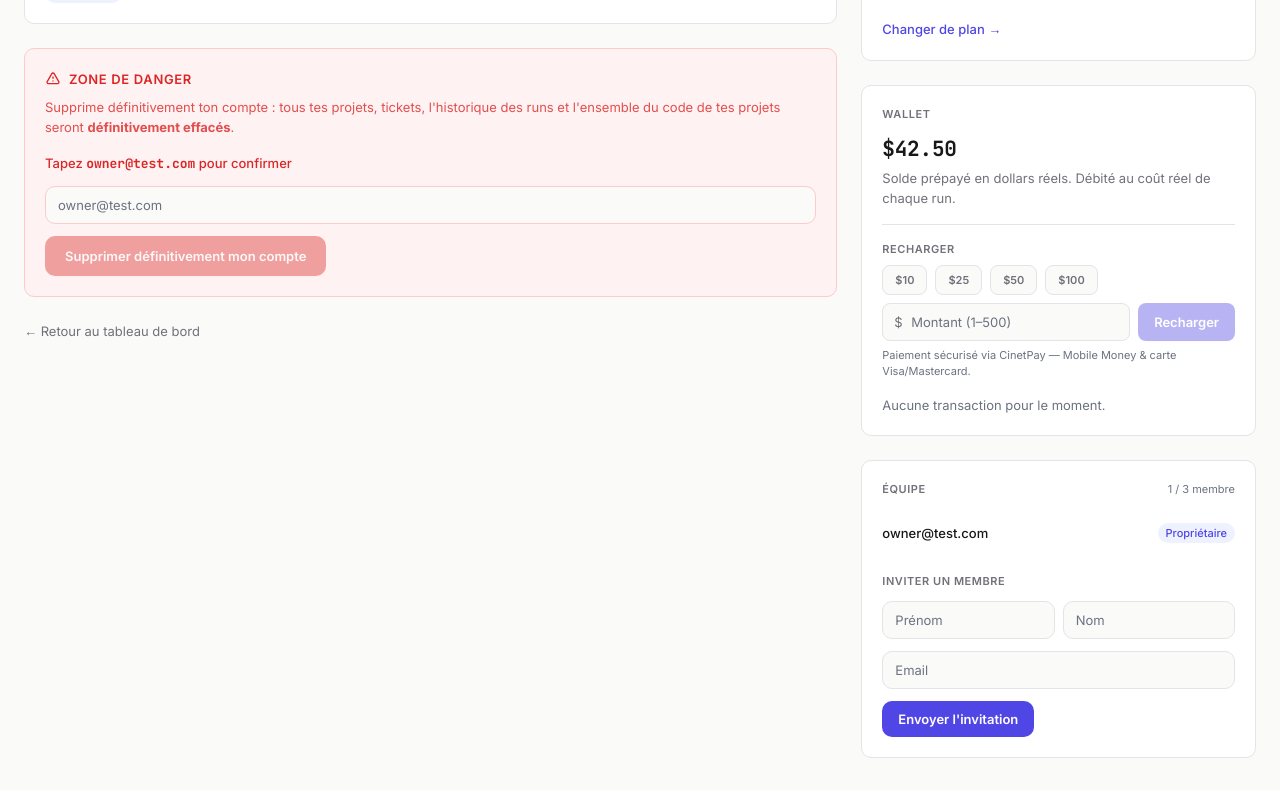
Test: AccountSettingsPage — section Équipe › affiche une erreur si l'invitation échoue
This screenshot has width=1280, height=790.
(page scrolled)
Check: the form with test id "invite-form" is shown, box top-left (882, 573), bottom-right (1235, 737)
Type "X" into the field with placeholder "Prénom" at (968, 620), box top-left (882, 601), bottom-right (1055, 639)
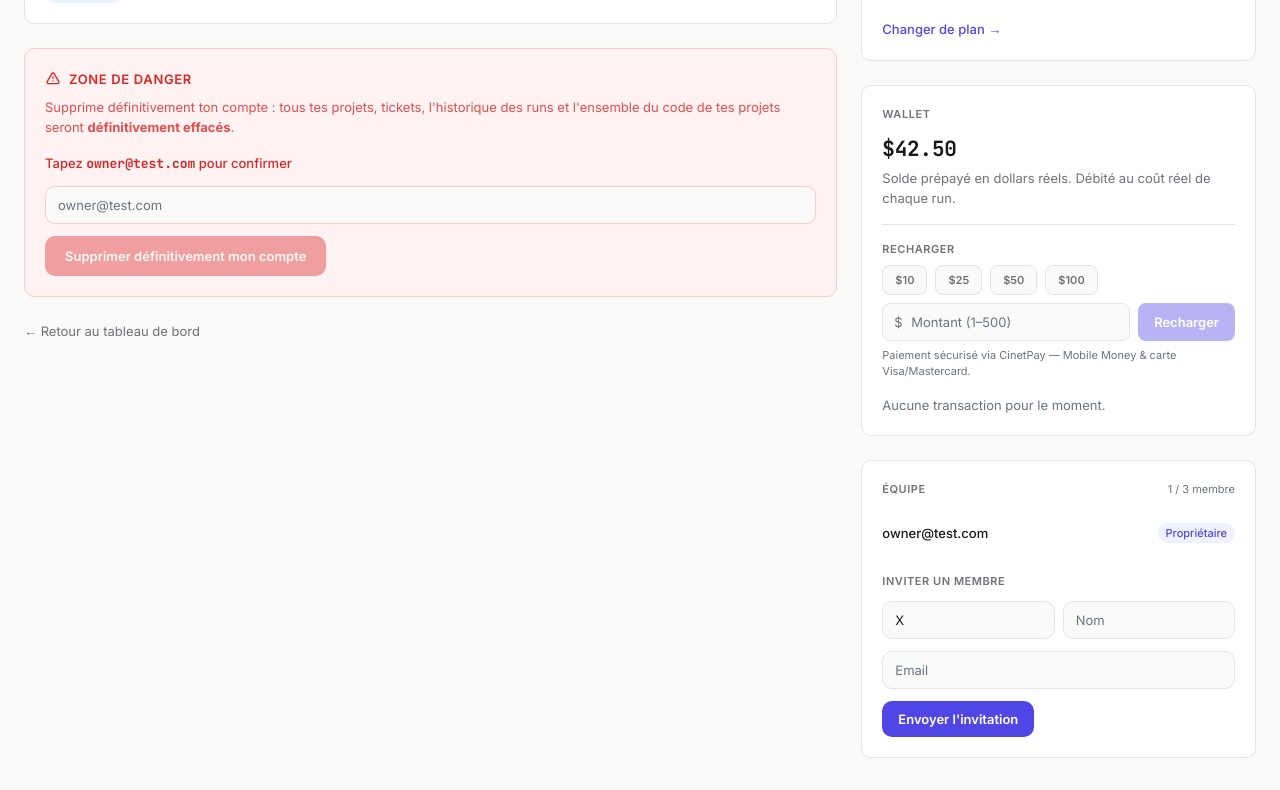
Type "Y" into the field with placeholder "Nom" at (1149, 620), box top-left (1063, 601), bottom-right (1235, 639)
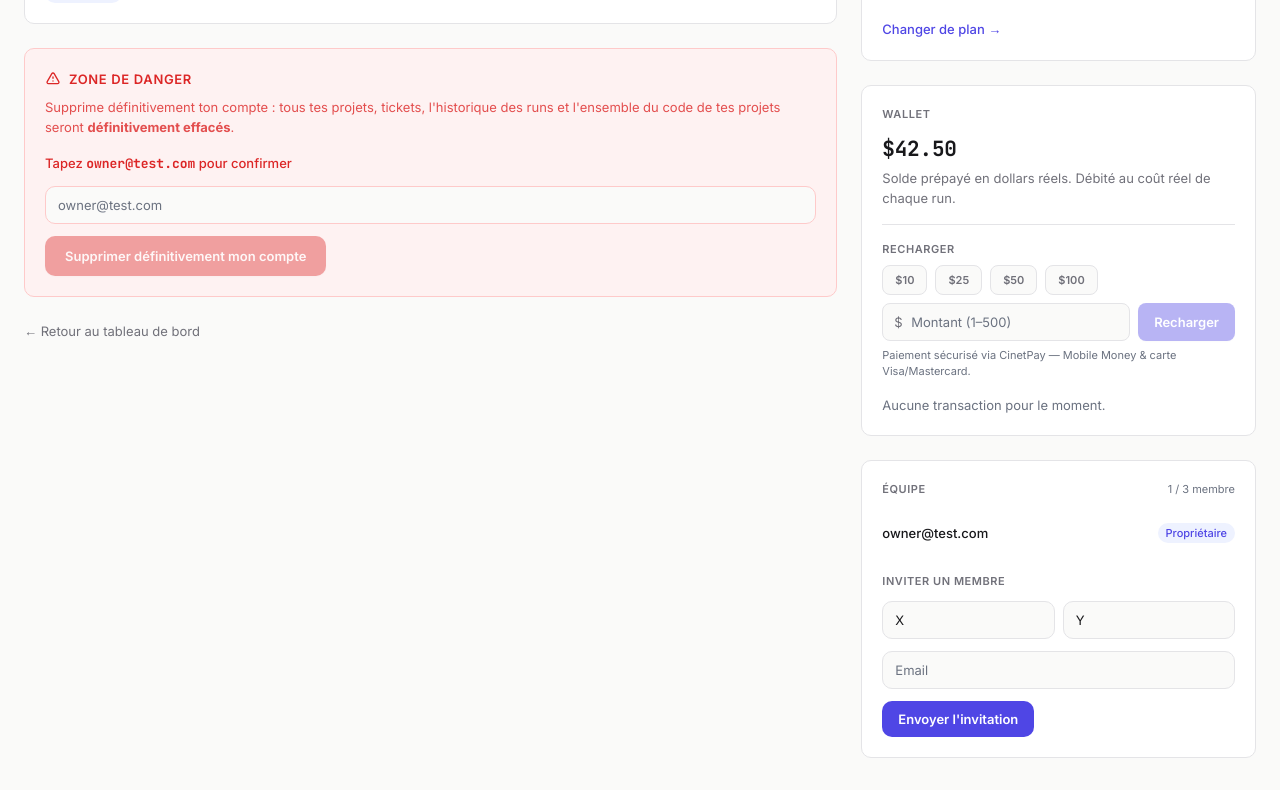
Type "existing@test.com" into the field with placeholder "Email" at (1059, 670), box top-left (882, 651), bottom-right (1235, 689)
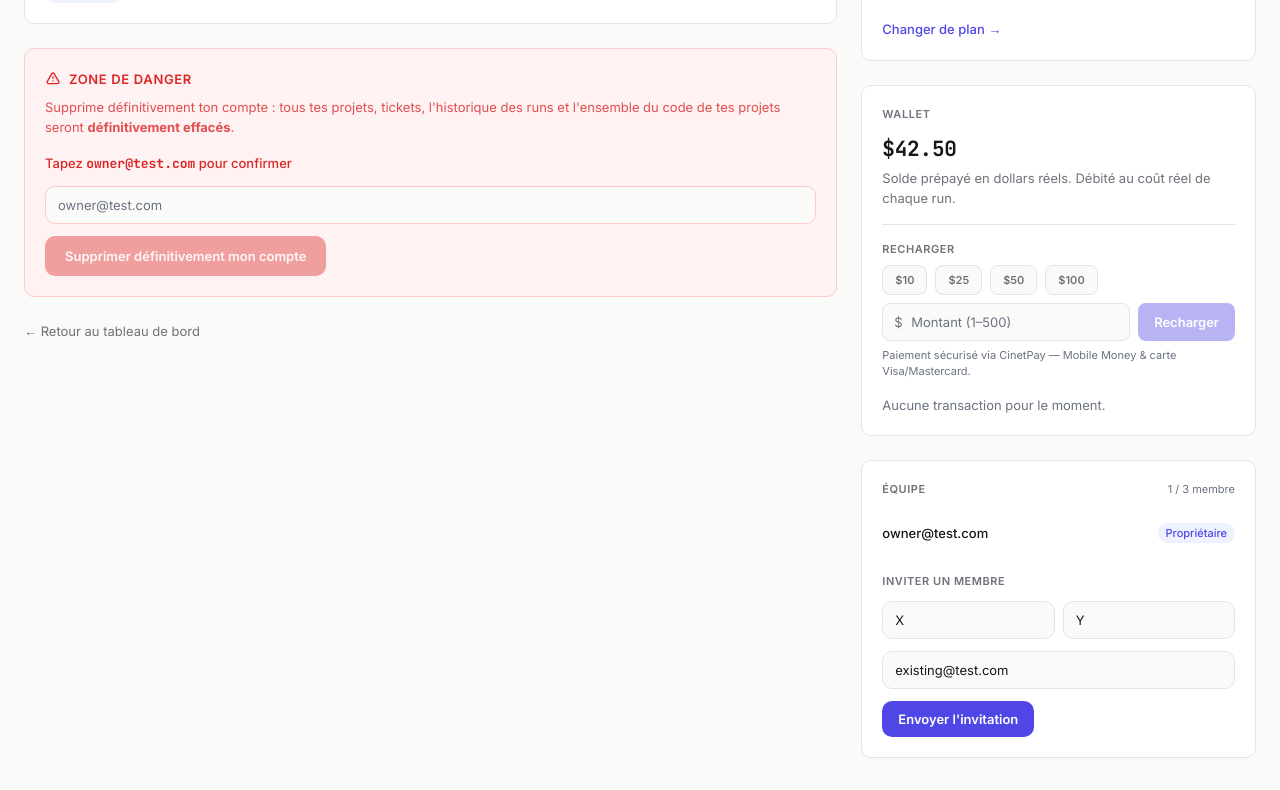
Click the button "Envoyer l'invitation" at (958, 719), box top-left (882, 701), bottom-right (1034, 737)
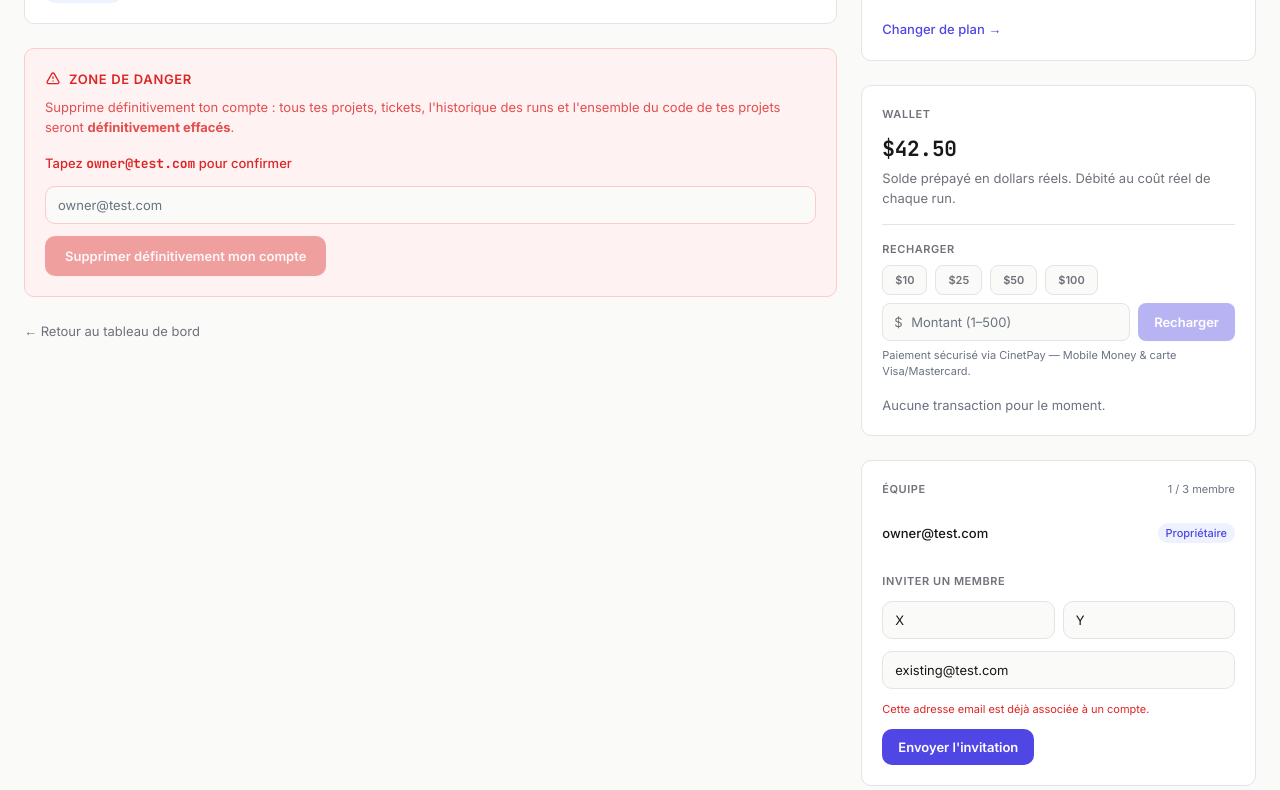
Check: the text "Cette adresse email est déjà associée à un compte." is shown, box top-left (882, 702), bottom-right (1149, 716)
